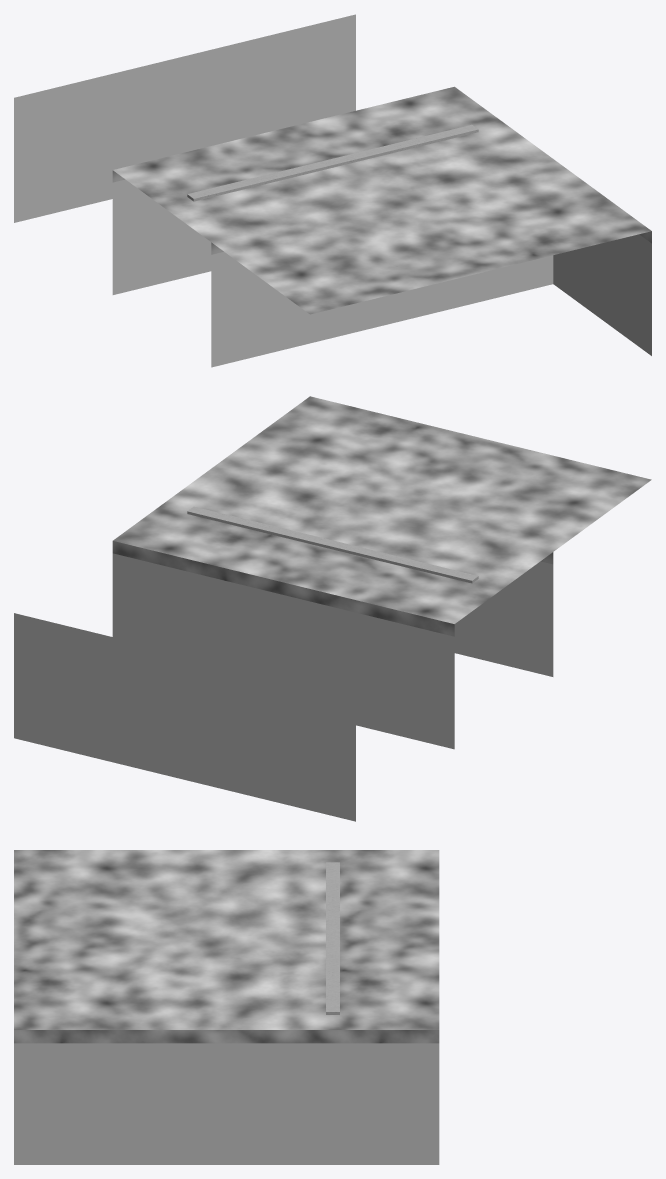
Rendered from RoadFourth.fbx.
3 renders of one model, top to bottom at view 1: azimuth 30°, elevation 25°; view 2: azimuth 150°, elevation 25°; view 3: azimuth 270°, elevation 25°, orthographic. The views are drawn at different scales.
Parts seen in each view (by area): view 1: Plane; view 2: Plane; view 3: Plane.
Part boxes in pixels (box(x1,y1,x2,y2)): Plane: box(14, 14, 651, 367); Plane: box(14, 396, 651, 821); Plane: box(14, 850, 439, 1164).
Size of the model in its own units: 400 by 143 by 600.
